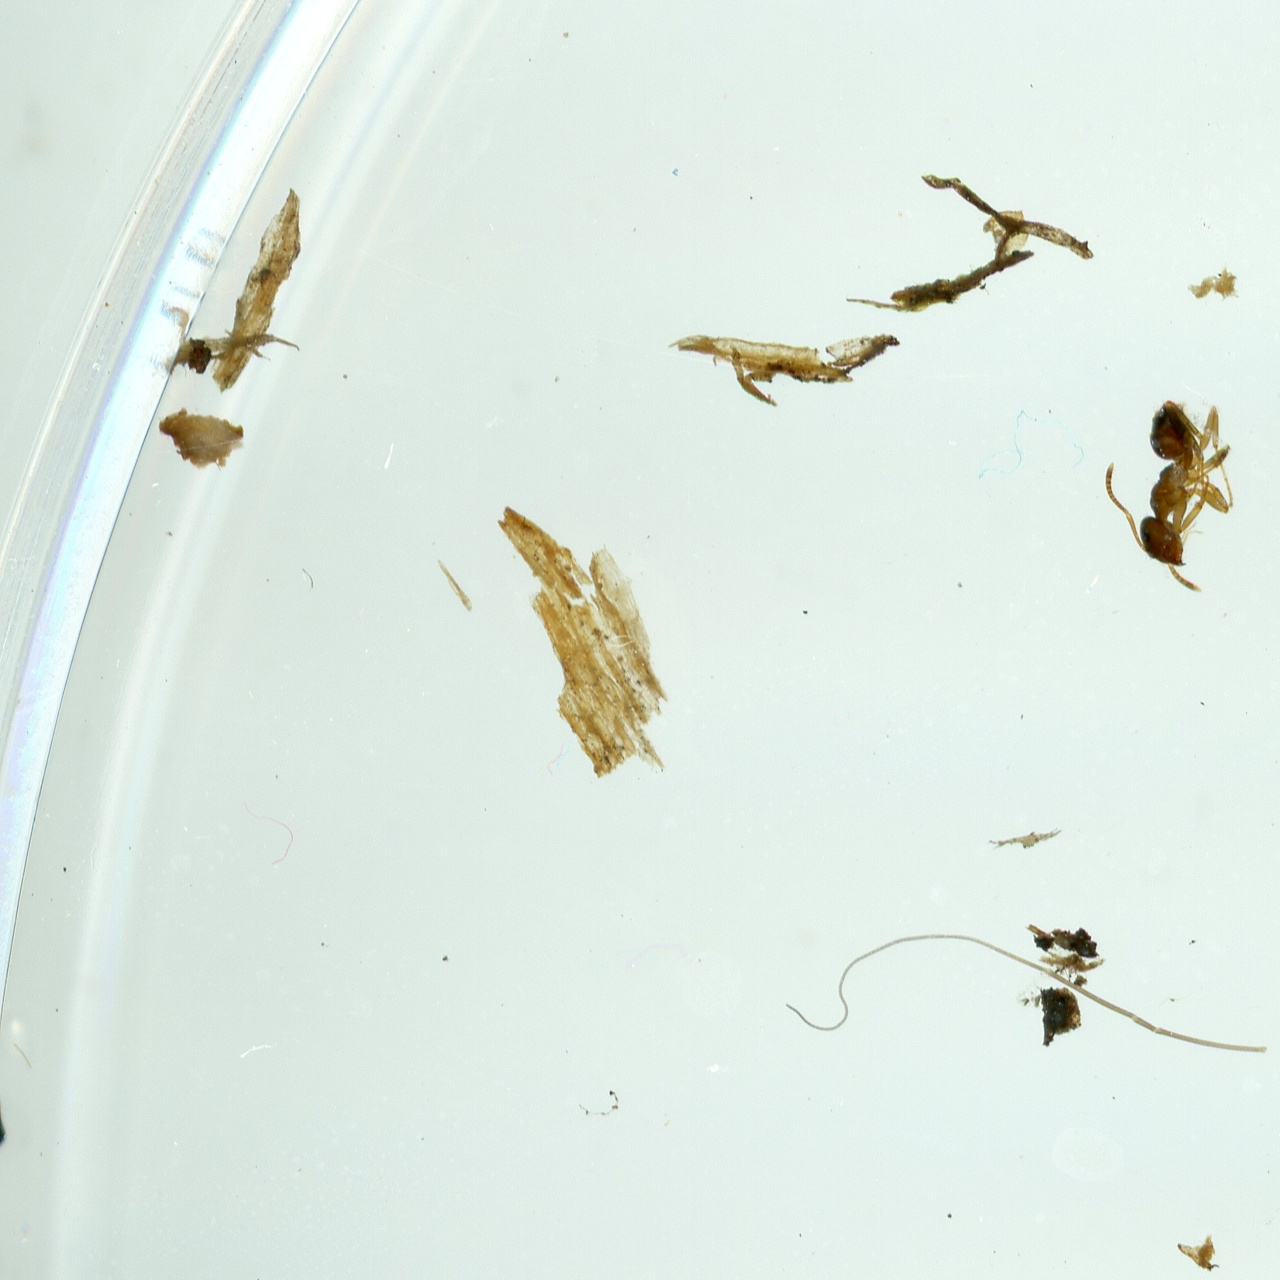arthropod: (1100, 393, 1238, 599)
